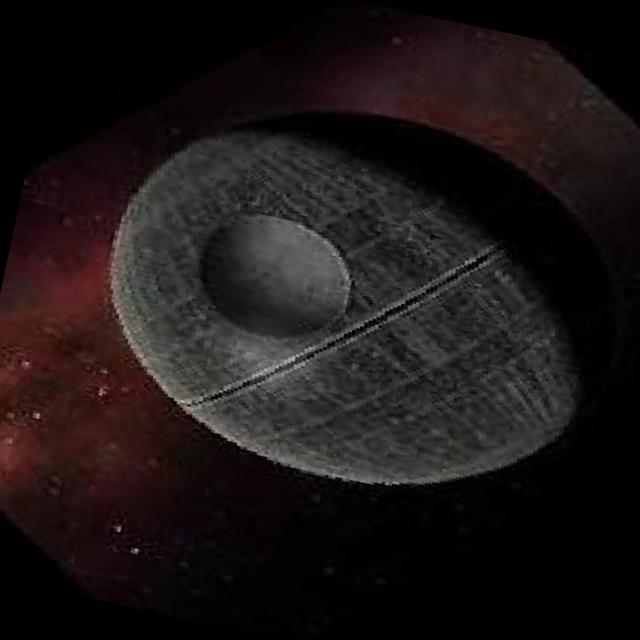Death Star: (56, 64, 640, 552)
